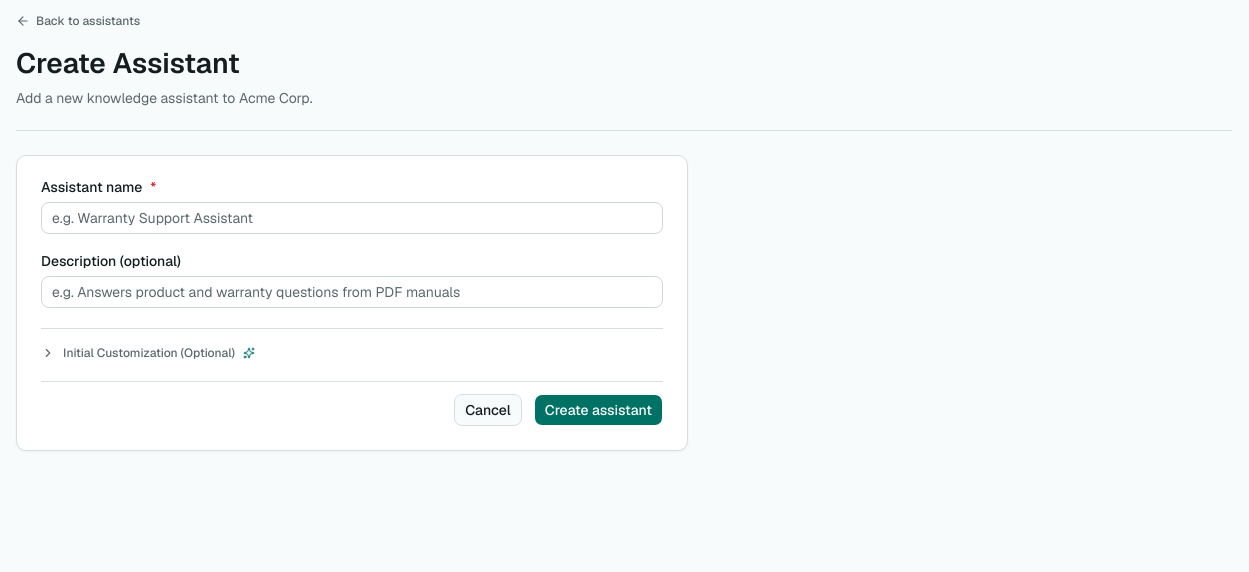
Test: NewAssistantPage › displays role permission error message when 403 Forbidden is returned
The width and height of the screenshot is (1249, 572).
In the field labelled "Assistant name *": x=352, y=218 [41,202,663,234], type "Acme Bot"
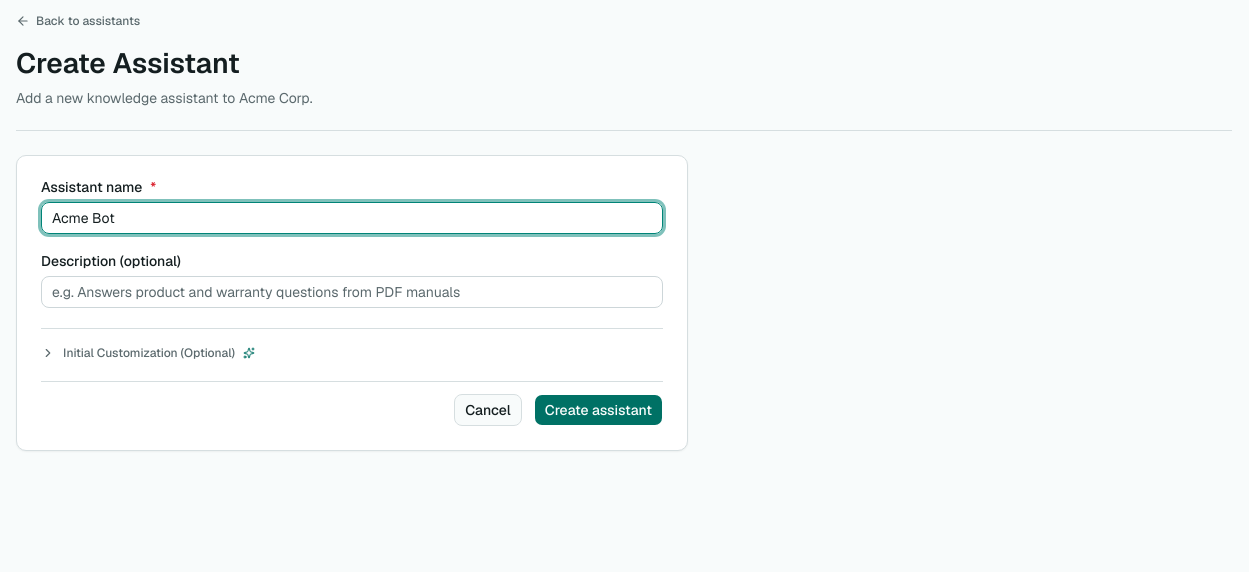
Click the button "Create assistant": x=598, y=410 [534,394,663,426]
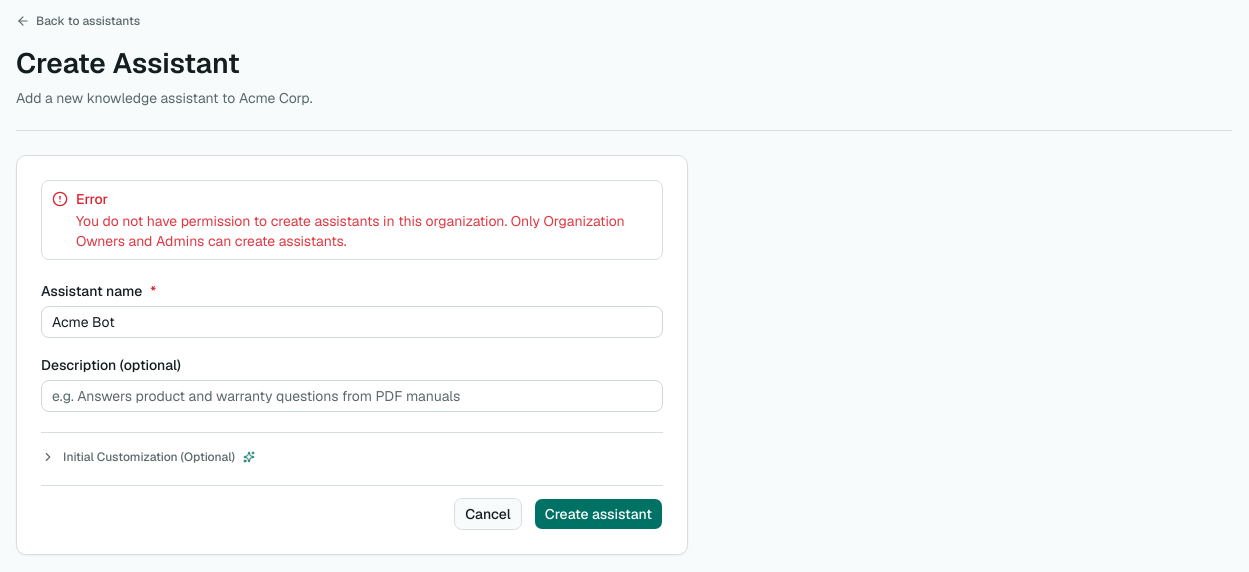
Expected: the text "Only Organization Owners and Admins can create assistants" is shown, [76,212,625,250]
